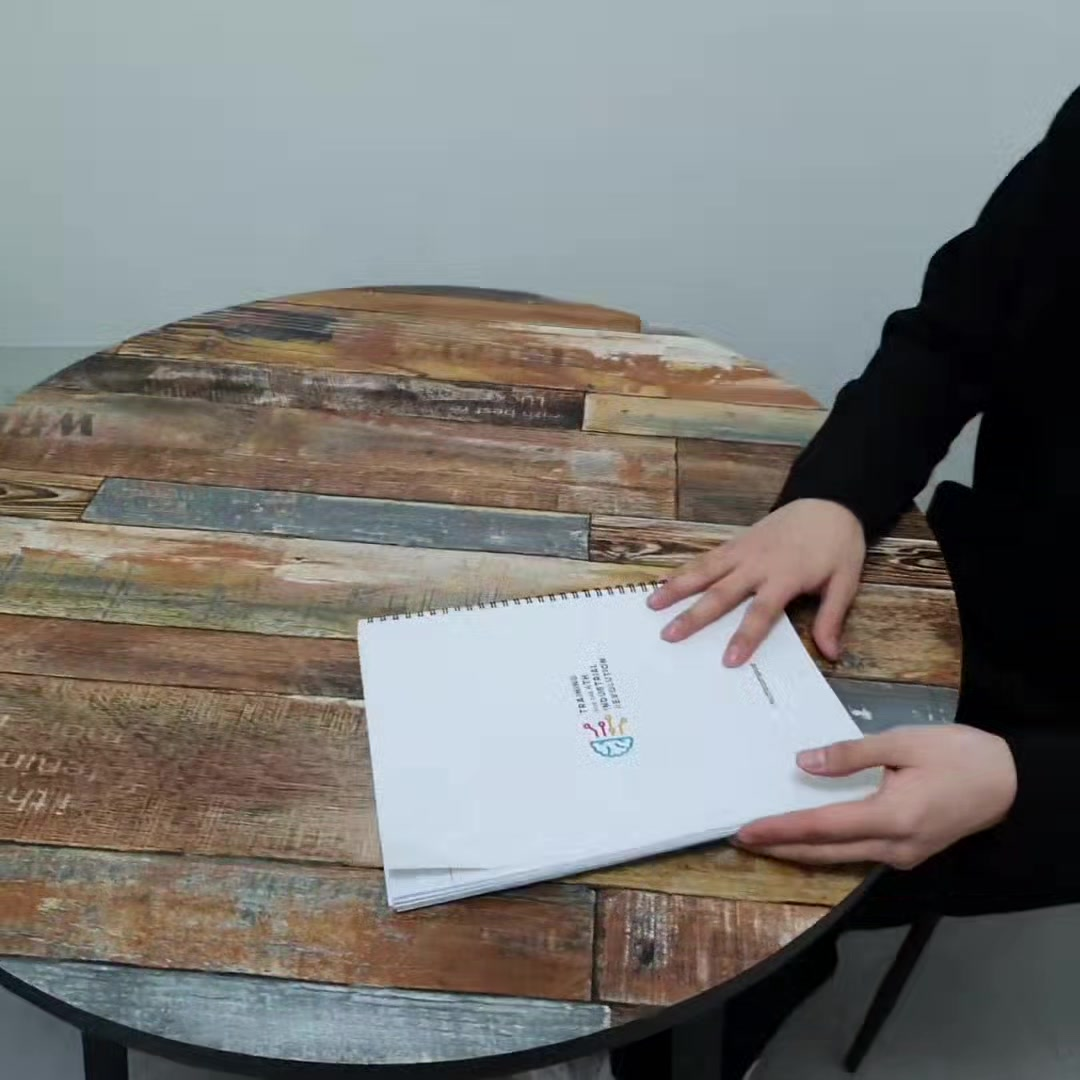book: (345, 541, 894, 911)
